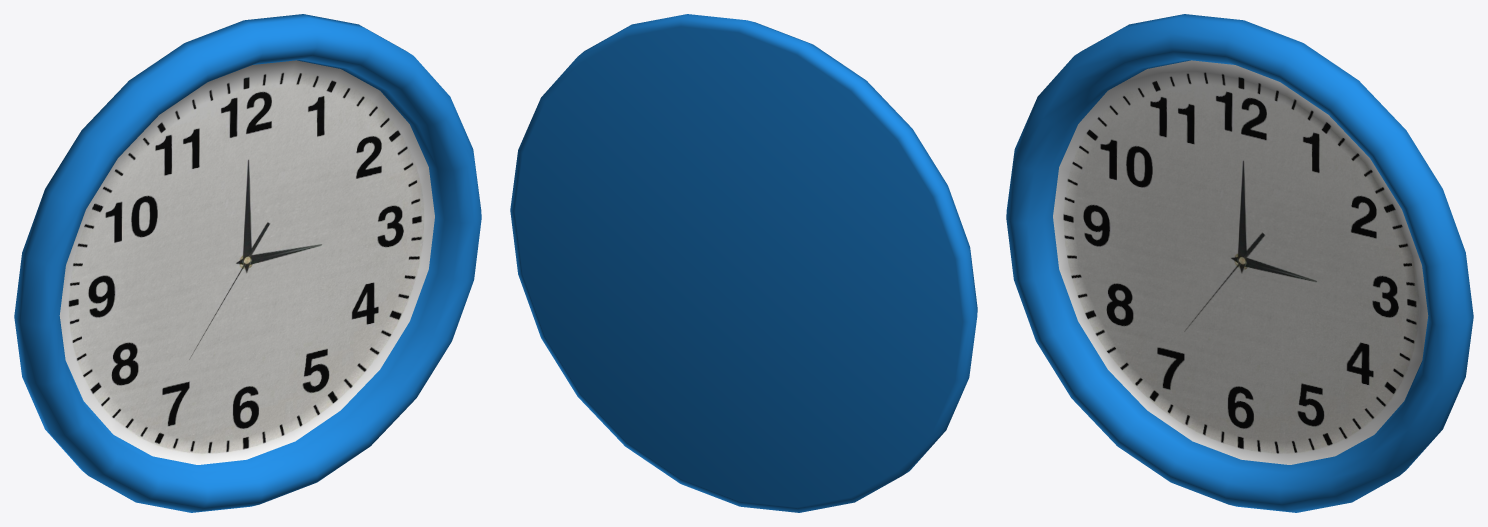
Rendered from JamDinding.fbx.
The picture shows the model from 3 angles, left to right: view 1: azimuth 30°, elevation 25°; view 2: azimuth 150°, elevation 25°; view 3: azimuth 330°, elevation 25°; orthographic projection.
Visible parts, largest first — view 1: jam; view 2: jam; view 3: jam.
Part boxes in pixels (x1,y1,x2,y2): jam: (14, 14, 481, 512); jam: (510, 14, 977, 512); jam: (1006, 14, 1473, 512).
Bounding box in the file's own units: 41.21 × 41.21 × 3.1.
Materials: 2 (1 with a texture image).
